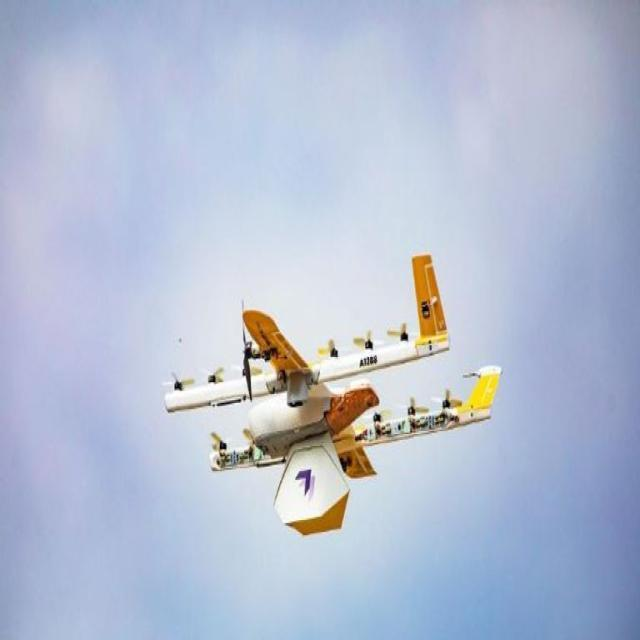iha: (162, 251, 504, 543)
